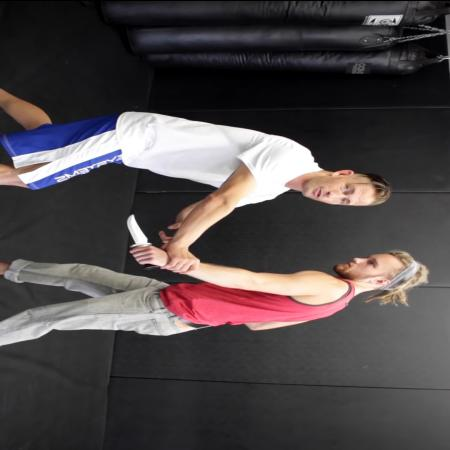long weapon: (120, 210, 161, 270)
